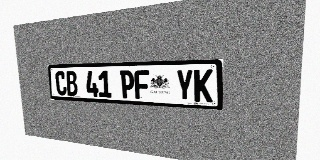1: (97, 71, 112, 98)
4: (85, 71, 99, 97)
B: (65, 71, 78, 96)
C: (55, 71, 67, 96)
F: (134, 70, 150, 99)
K: (194, 69, 213, 102)
P: (120, 70, 135, 99)
Y: (176, 69, 193, 101)
